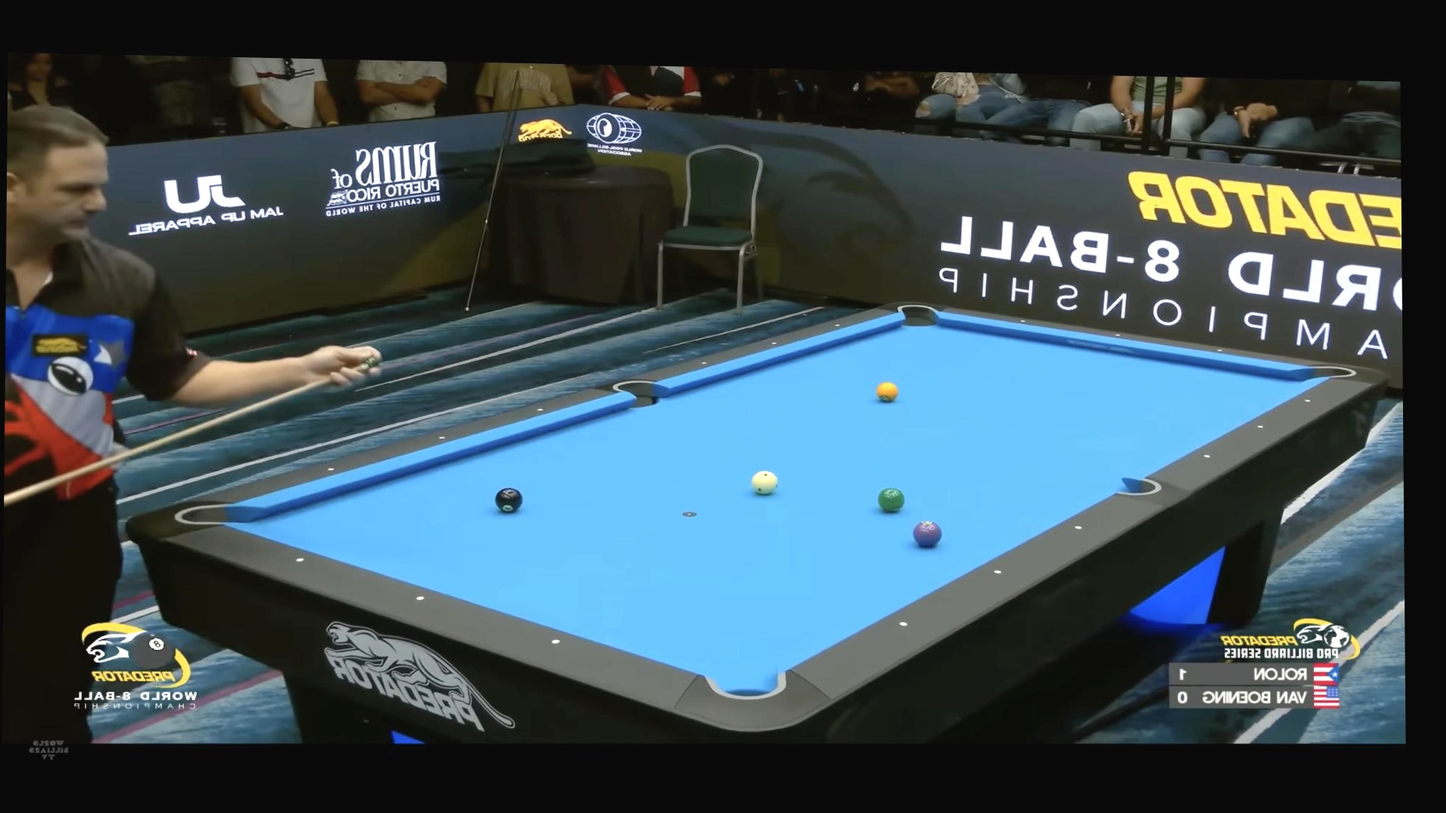Black: (494, 486, 524, 514)
Cue: (751, 470, 778, 496)
Solid: (549, 636, 563, 648), (413, 592, 427, 604), (293, 553, 306, 565), (992, 567, 1005, 578), (898, 619, 910, 630), (1073, 523, 1085, 533), (1202, 452, 1211, 461), (1256, 422, 1265, 431), (1303, 396, 1312, 405), (327, 466, 334, 472), (537, 407, 544, 413), (1216, 347, 1223, 353), (1019, 318, 1026, 324), (1115, 332, 1121, 338), (835, 323, 841, 328), (772, 341, 778, 346), (701, 361, 707, 366), (439, 436, 445, 440)
Striped: (912, 519, 942, 547), (877, 487, 906, 513), (876, 381, 899, 403)
